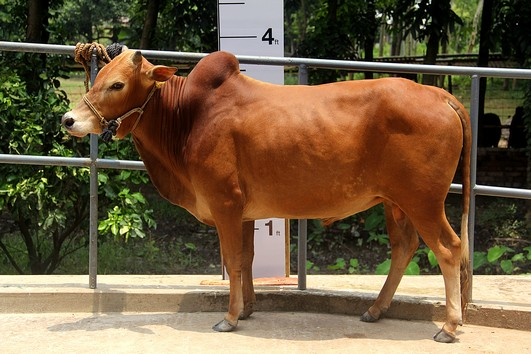cow: (57, 41, 475, 343)
